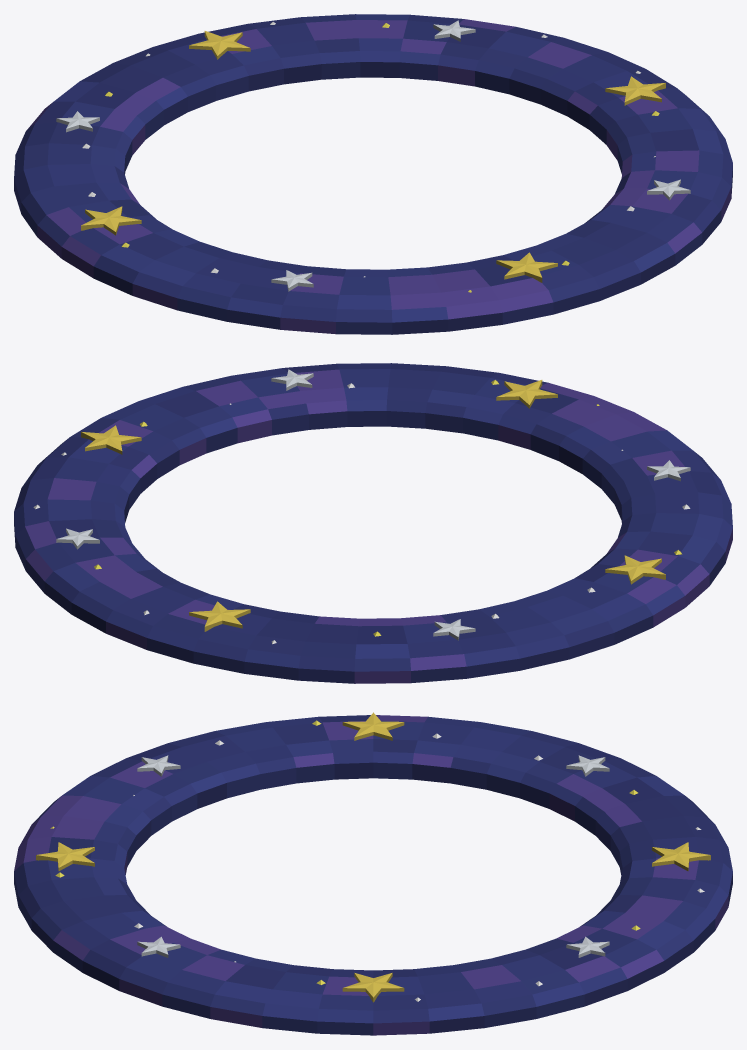
Rendered from habitat_frame_8.fbx.
3 views of the same model, one above another, from view 1: azimuth 30°, elevation 25°; view 2: azimuth 150°, elevation 25°; view 3: azimuth 270°, elevation 25° (orthographic).
Visible parts, largest first — view 1: habitat_frame_8; view 2: habitat_frame_8; view 3: habitat_frame_8.
Boxes of the visible parts, <box> form: habitat_frame_8: <box>14,14,732,334</box>; habitat_frame_8: <box>14,363,732,683</box>; habitat_frame_8: <box>14,712,732,1035</box>.
Size of the model in its own units: 7.5 by 0.345 by 7.5.
